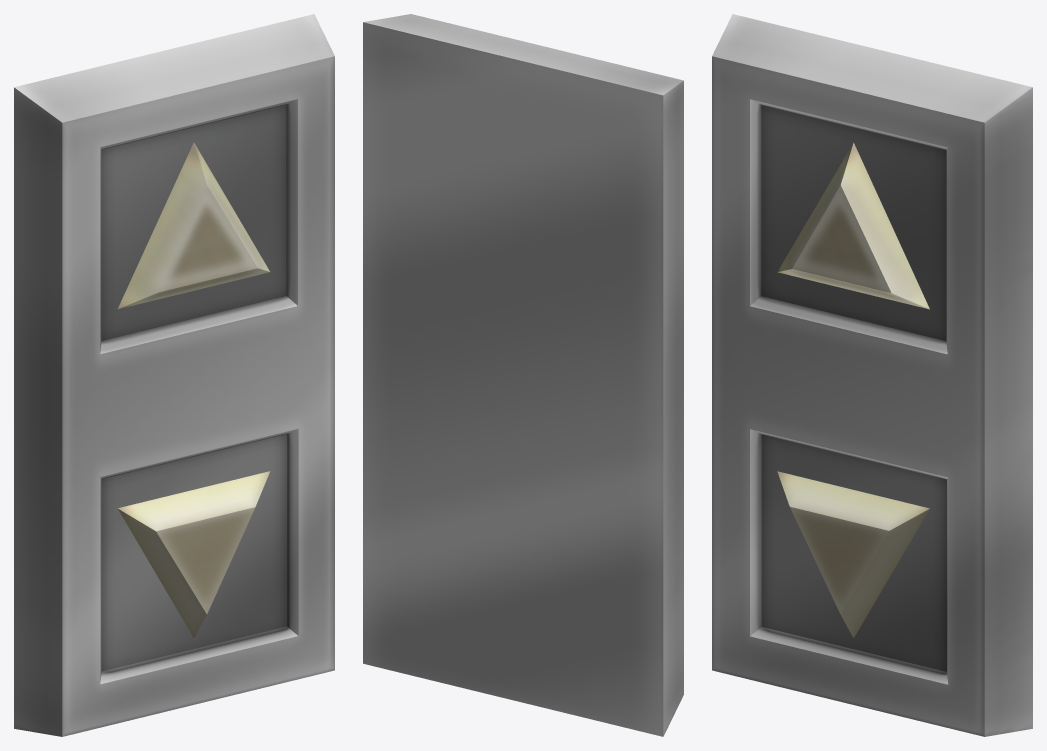
Rendered from sb_obj_ModernCity056_elevator_switch_b.fbx.
The picture shows the model from 3 angles, left to right: view 1: azimuth 30°, elevation 25°; view 2: azimuth 150°, elevation 25°; view 3: azimuth 330°, elevation 25°; orthographic projection.
Parts seen in each view (by area): view 1: sb_obj_ModernCity056_elevator_switch_b; view 2: sb_obj_ModernCity056_elevator_switch_b; view 3: sb_obj_ModernCity056_elevator_switch_b.
Part boxes in pixels (x1,y1,x2,y2): sb_obj_ModernCity056_elevator_switch_b: (14, 14, 334, 736); sb_obj_ModernCity056_elevator_switch_b: (363, 14, 683, 736); sb_obj_ModernCity056_elevator_switch_b: (712, 14, 1032, 736).
Size of the model in its own units: 0.1409 by 0.2875 by 0.0345.
